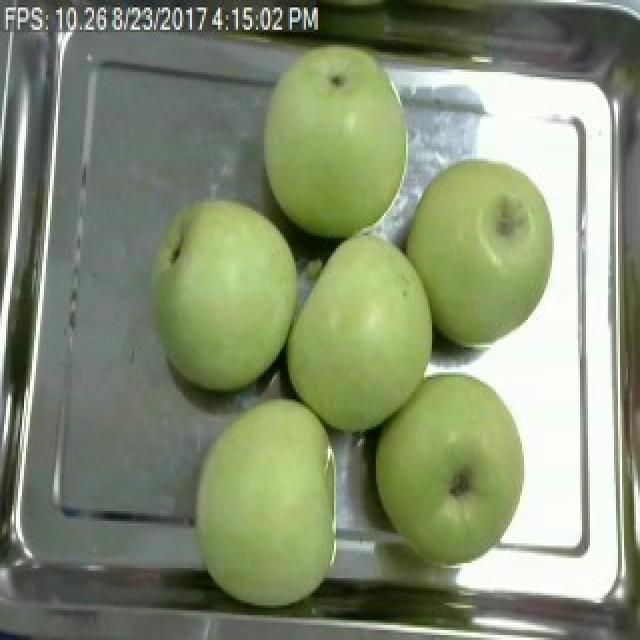50-_ripeness: (403, 150, 564, 350), (155, 183, 299, 400), (262, 45, 408, 250), (200, 386, 334, 605), (295, 222, 437, 425), (388, 376, 524, 583)
